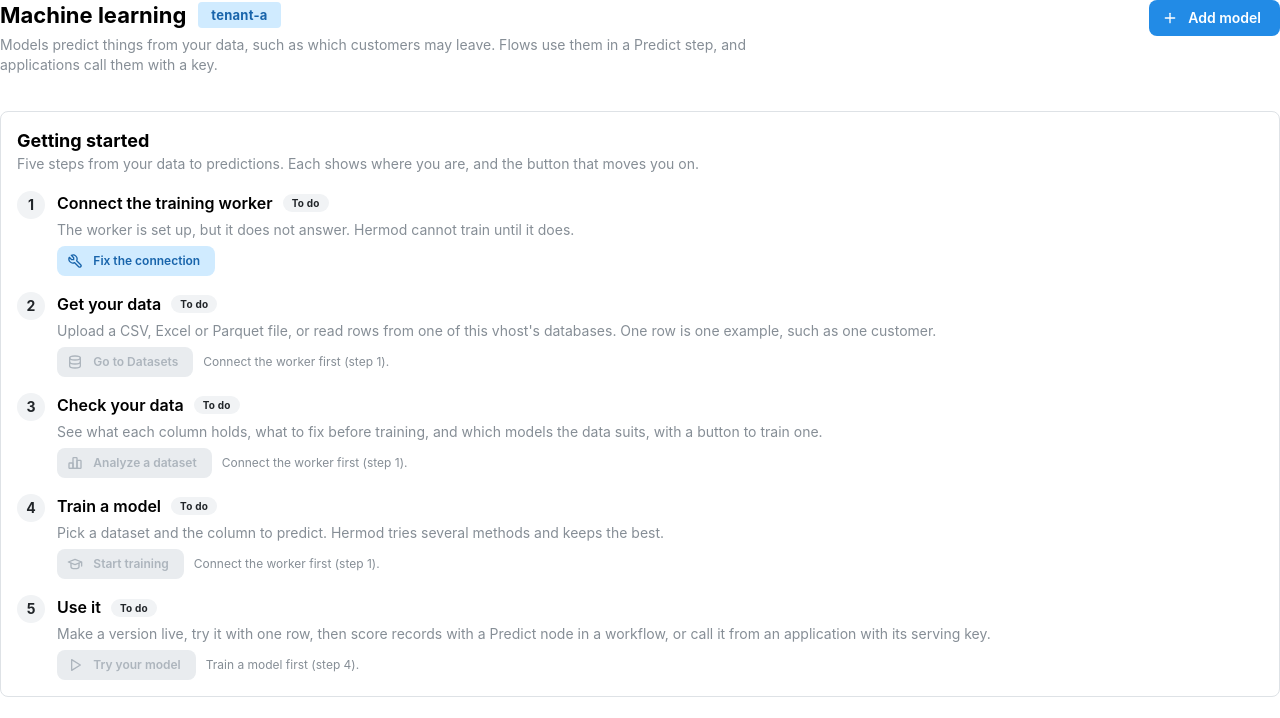
Test case: Getting started: the training worker › says the worker is set up but not answering, with its own troubleshooting
Expected: the text "set up, but it does not answer" is shown, 57,221 -> 574,238
Click the button "Add model".
click(1215, 18)  # box 1149,0 -> 1279,36
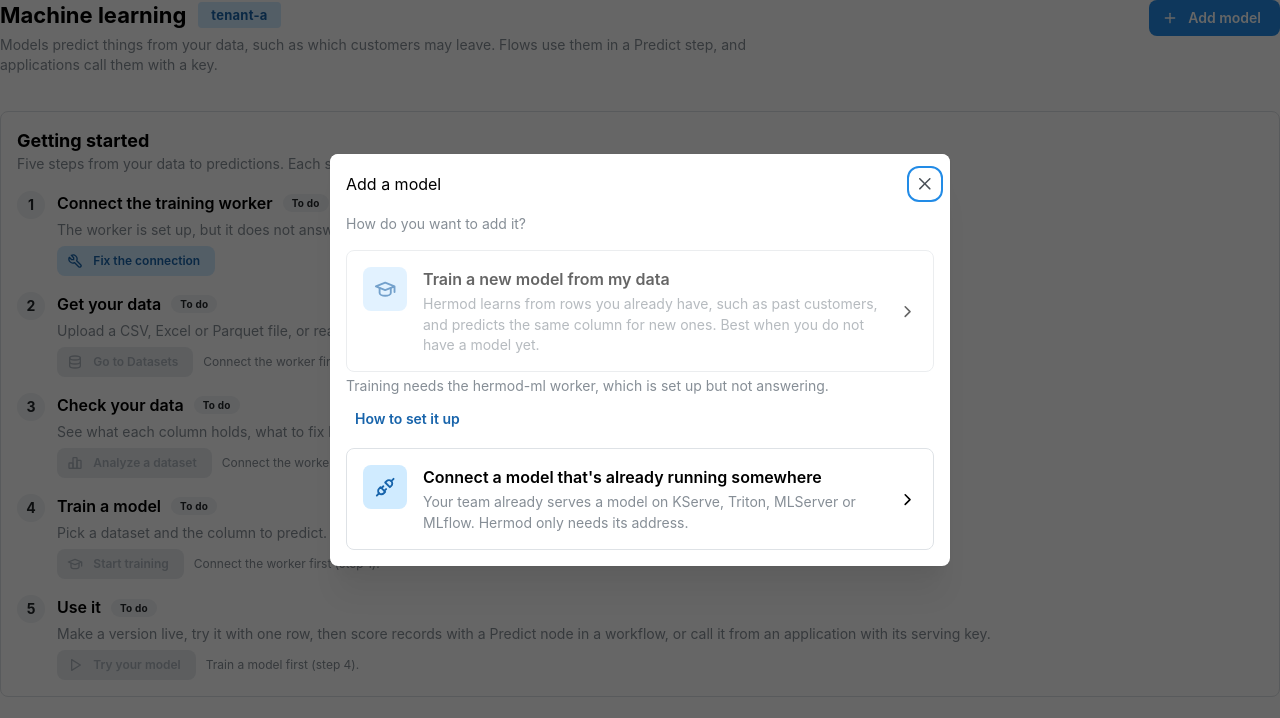
Press Escape
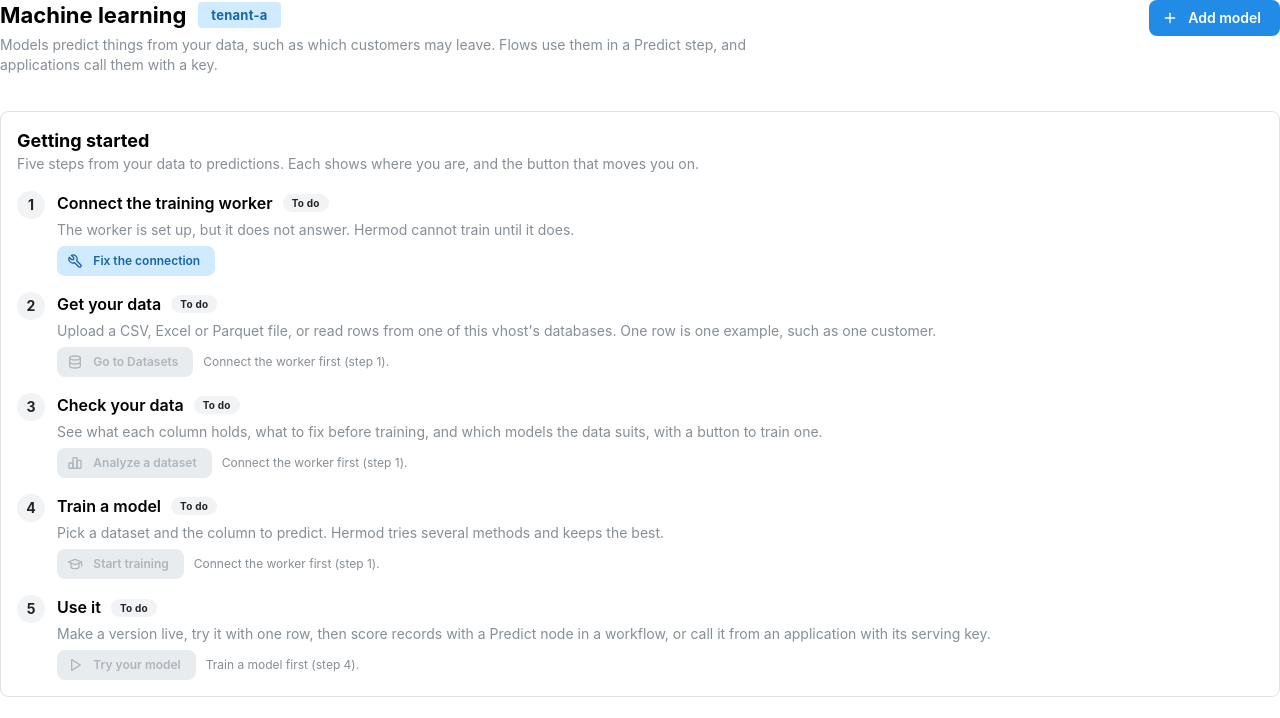
Expected: the dialog is gone
Click the button "Fix the connection".
click(136, 261)  # box 57,246 -> 215,276
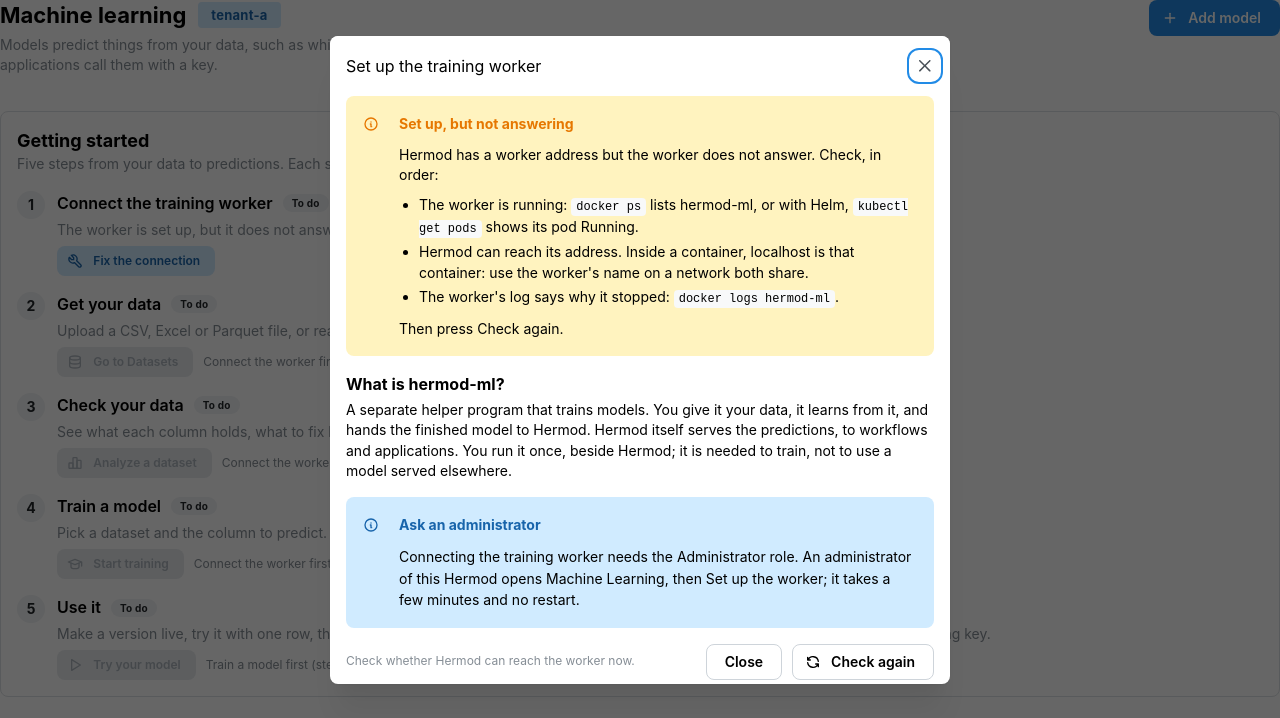
Expected: the text "Hermod has a worker address but the worker does not answer" is shown, 399,146 -> 881,183
Expected: the text "an administrator of this hermod opens machine" is shown, 399,548 -> 911,608
